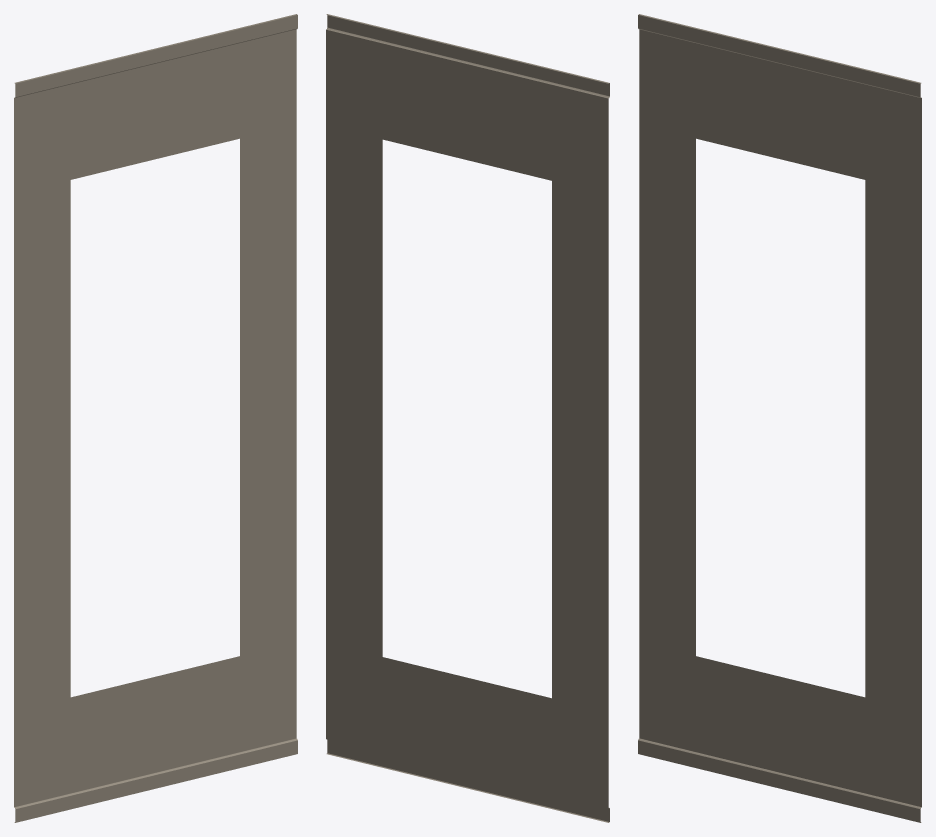
The model's file is Wall_2x5__SingleWindow_NonUniformSize.fbx.
3 views of the same model, side by side, from view 1: azimuth 30°, elevation 25°; view 2: azimuth 150°, elevation 25°; view 3: azimuth 330°, elevation 25° (orthographic).
Parts seen in each view (by area): view 1: Wall_2x5__SingleWindow_NonUniformSize; view 2: Wall_2x5__SingleWindow_NonUniformSize; view 3: Wall_2x5__SingleWindow_NonUniformSize.
Part boxes in pixels (box(x1,y1,x2,y2)): Wall_2x5__SingleWindow_NonUniformSize: box(14, 14, 297, 822); Wall_2x5__SingleWindow_NonUniformSize: box(326, 14, 609, 822); Wall_2x5__SingleWindow_NonUniformSize: box(638, 14, 921, 822).
Bounding box in the file's own units: 2 × 5 × 0.015.
